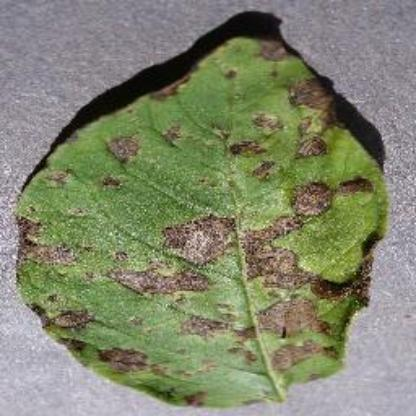Early-Blight: (14, 25, 410, 410)
